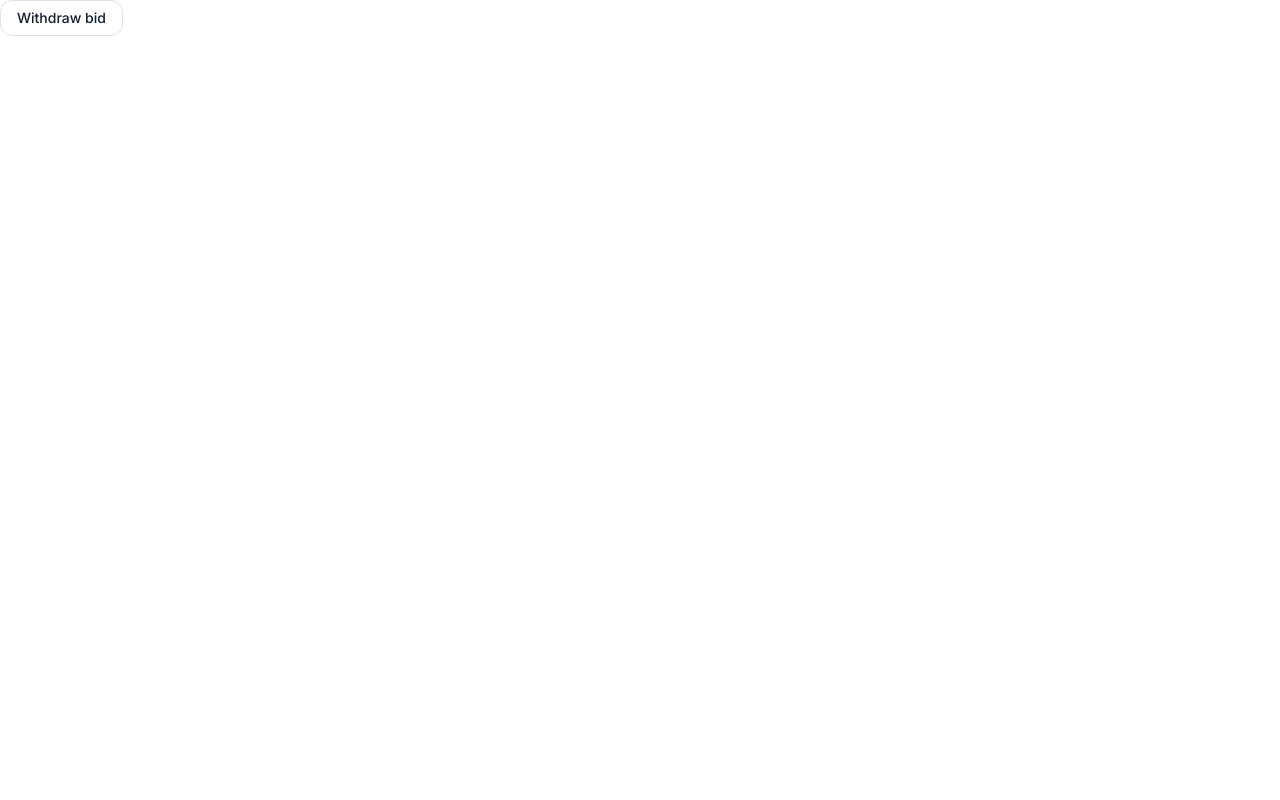
Test: WithdrawBidButton › asks first, then withdraws the bid
Later steps or results of the test are not shown.
Step 1. Click the button "Withdraw bid" → coordinates (61, 18), box [0,0,123,36]
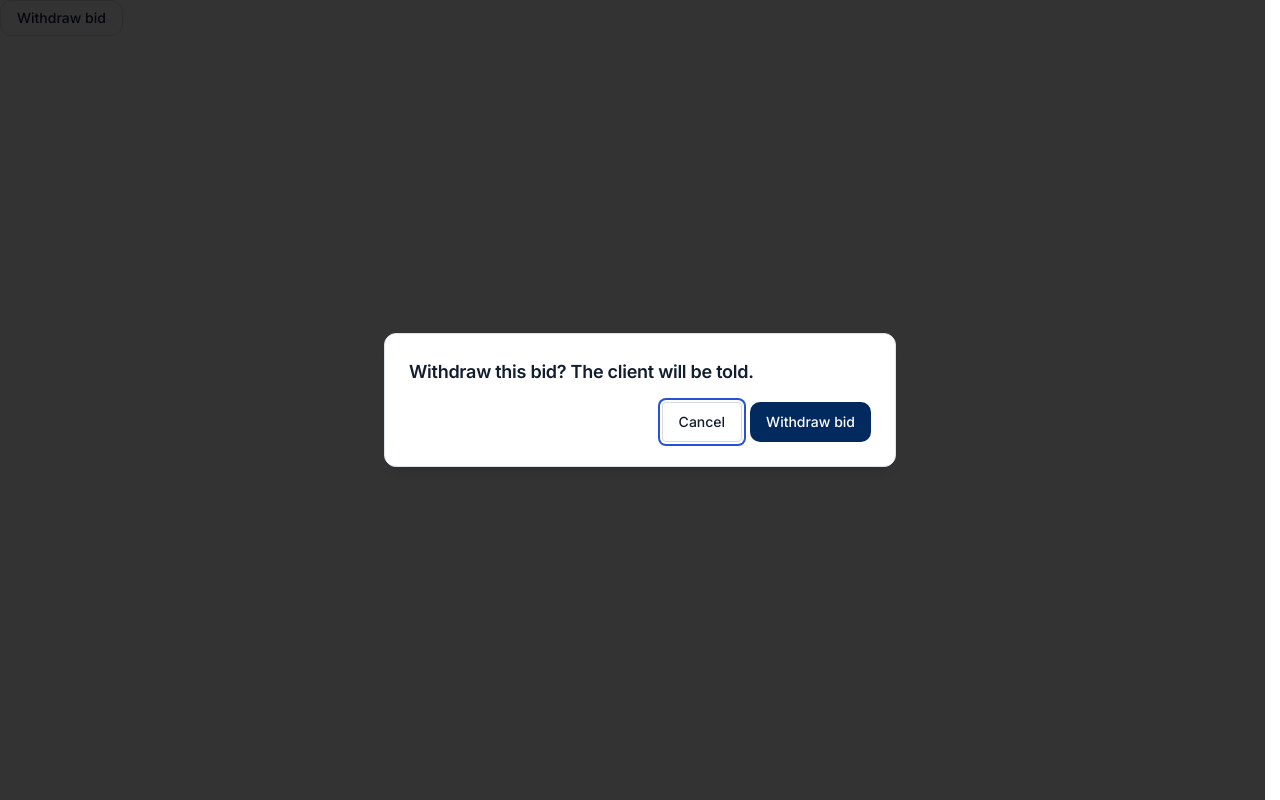
Now the heading "Withdraw this bid? The client will be told." is shown, box [409,361,754,382]
